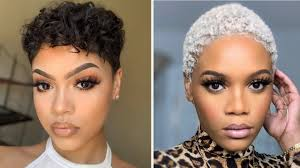person: (25, 5, 123, 152), (181, 2, 275, 154)
